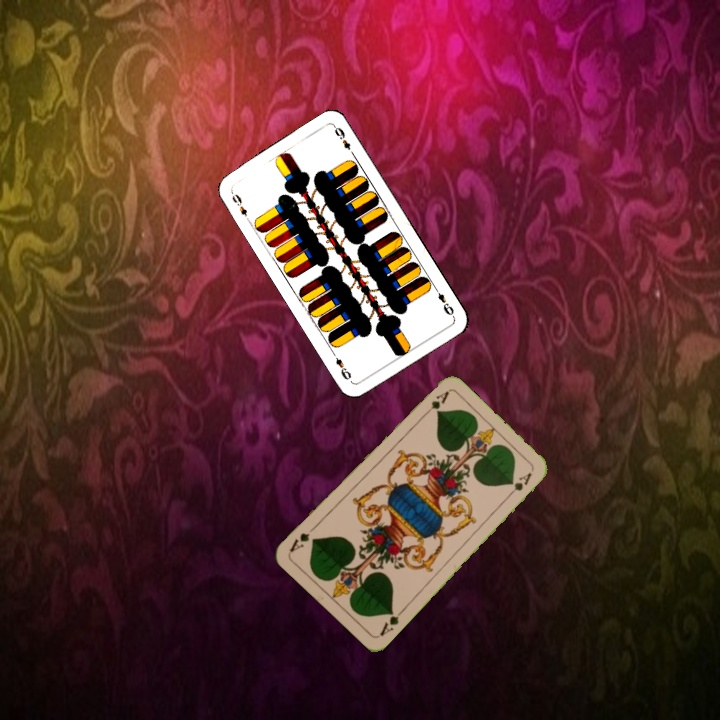E9: (430, 282, 457, 318), (227, 187, 253, 224)
GA: (418, 387, 451, 420), (375, 605, 407, 639)
